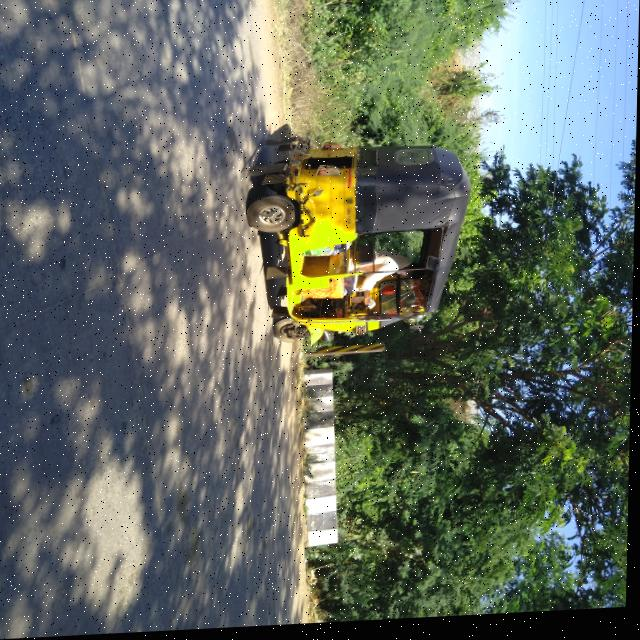plate: (346, 211, 354, 230)
